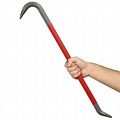crowbar: (18, 1, 115, 120)
